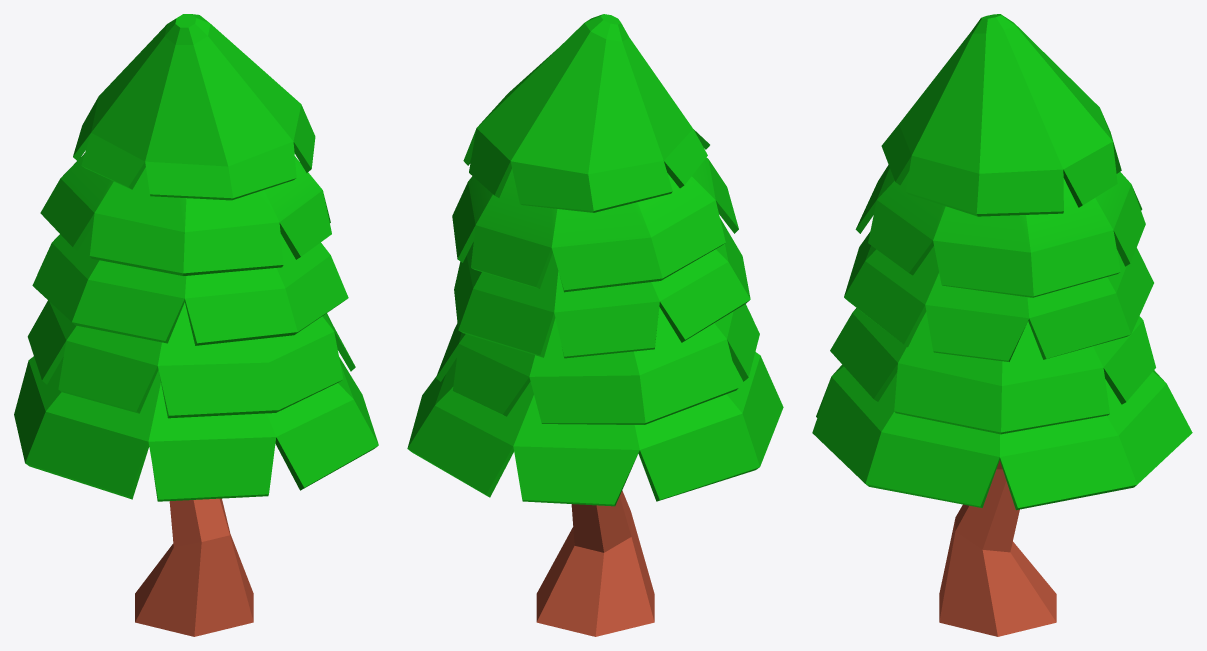
Rendered from tree_F_01.fbx.
The picture shows the model from 3 angles, left to right: view 1: azimuth 30°, elevation 25°; view 2: azimuth 150°, elevation 25°; view 3: azimuth 270°, elevation 25°; orthographic projection.
Visible parts, largest first — view 1: tree_F_01; view 2: tree_F_01; view 3: tree_F_01.
Boxes of the visible parts, left/top/right/bottom form: tree_F_01: left=14, top=14, right=378, bottom=636; tree_F_01: left=407, top=14, right=783, bottom=636; tree_F_01: left=812, top=14, right=1192, bottom=636.
Size of the model in its own units: 145 by 249 by 146.
